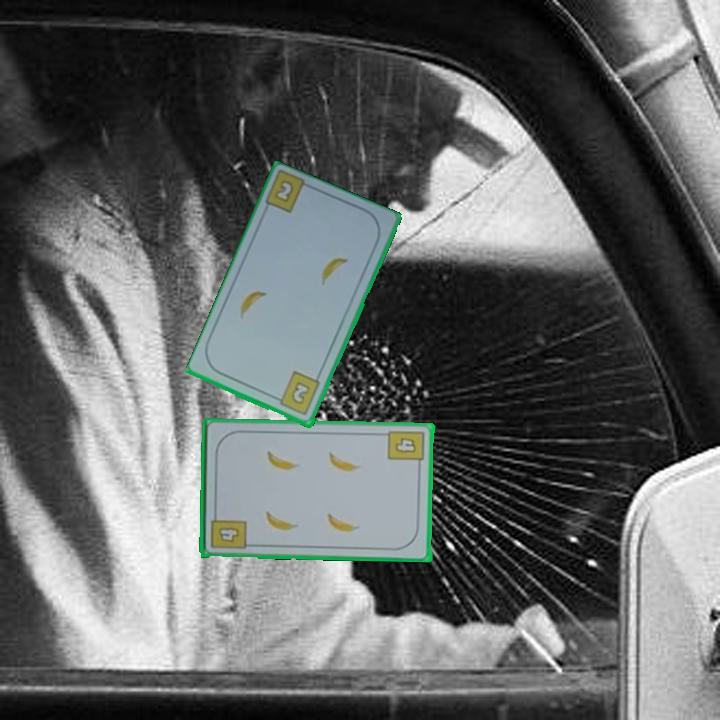2b: (271, 368, 323, 418), (262, 169, 316, 216)
4b: (385, 426, 428, 471), (207, 508, 249, 552)
